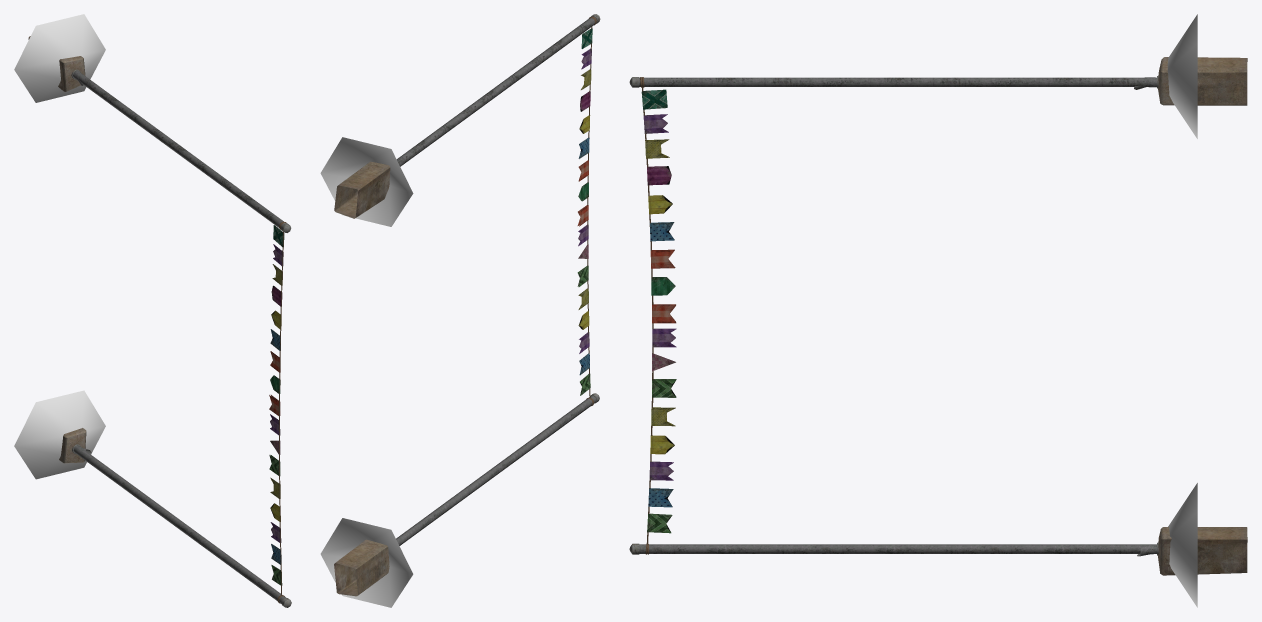
The model's file is hd_env444_Gareland_pole_01.glb.
3 renders of one model, left to right at view 1: azimuth 30°, elevation 25°; view 2: azimuth 150°, elevation 25°; view 3: azimuth 270°, elevation 25°, orthographic. The views are drawn at different scales.
Visible parts, largest first — view 1: set_0_group_0, set_0_group_1, set_0_group_2; view 2: set_0_group_1, set_0_group_0, set_0_group_2; view 3: set_0_group_1, set_0_group_0, set_0_group_2.
Part boxes in pixels (<box>): set_0_group_0: <box>14,14,105,479</box>; set_0_group_1: <box>28,38,291,607</box>; set_0_group_2: <box>28,36,91,462</box>; set_0_group_1: <box>334,14,600,596</box>; set_0_group_0: <box>320,137,413,607</box>; set_0_group_2: <box>334,161,390,218</box>; set_0_group_1: <box>629,61,1247,575</box>; set_0_group_0: <box>1167,14,1197,607</box>; set_0_group_2: <box>1134,57,1247,560</box>.
Bounding box in the file's own units: 1.58 × 7.43 × 7.38.
Materials: 3 (2 with a texture image).
